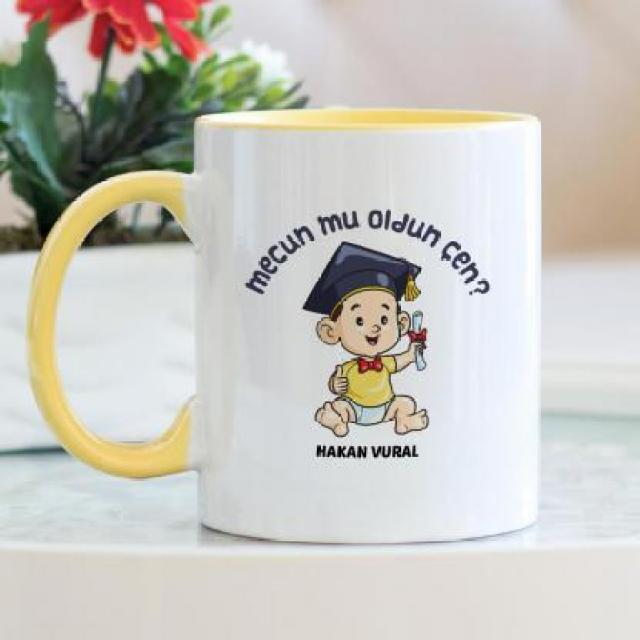taza: (29, 109, 545, 546)
